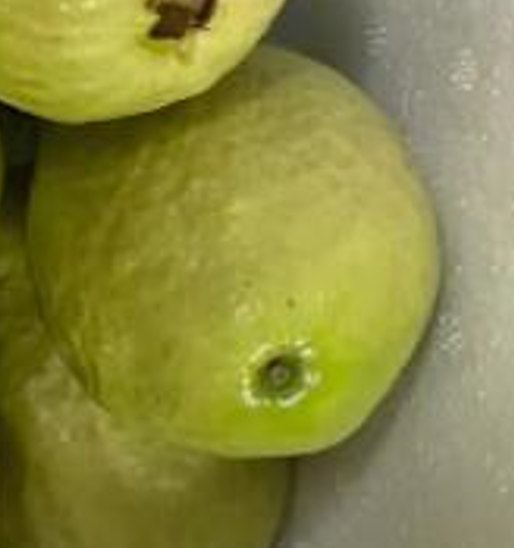guava_A: (26, 42, 440, 458)
